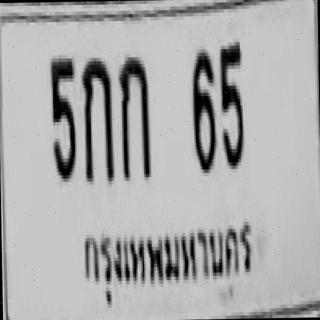A01: (80, 54, 113, 182), (118, 54, 150, 178)
N05: (49, 55, 75, 178), (218, 40, 243, 167)
N06: (190, 49, 215, 170)
P04: (75, 220, 253, 301)
